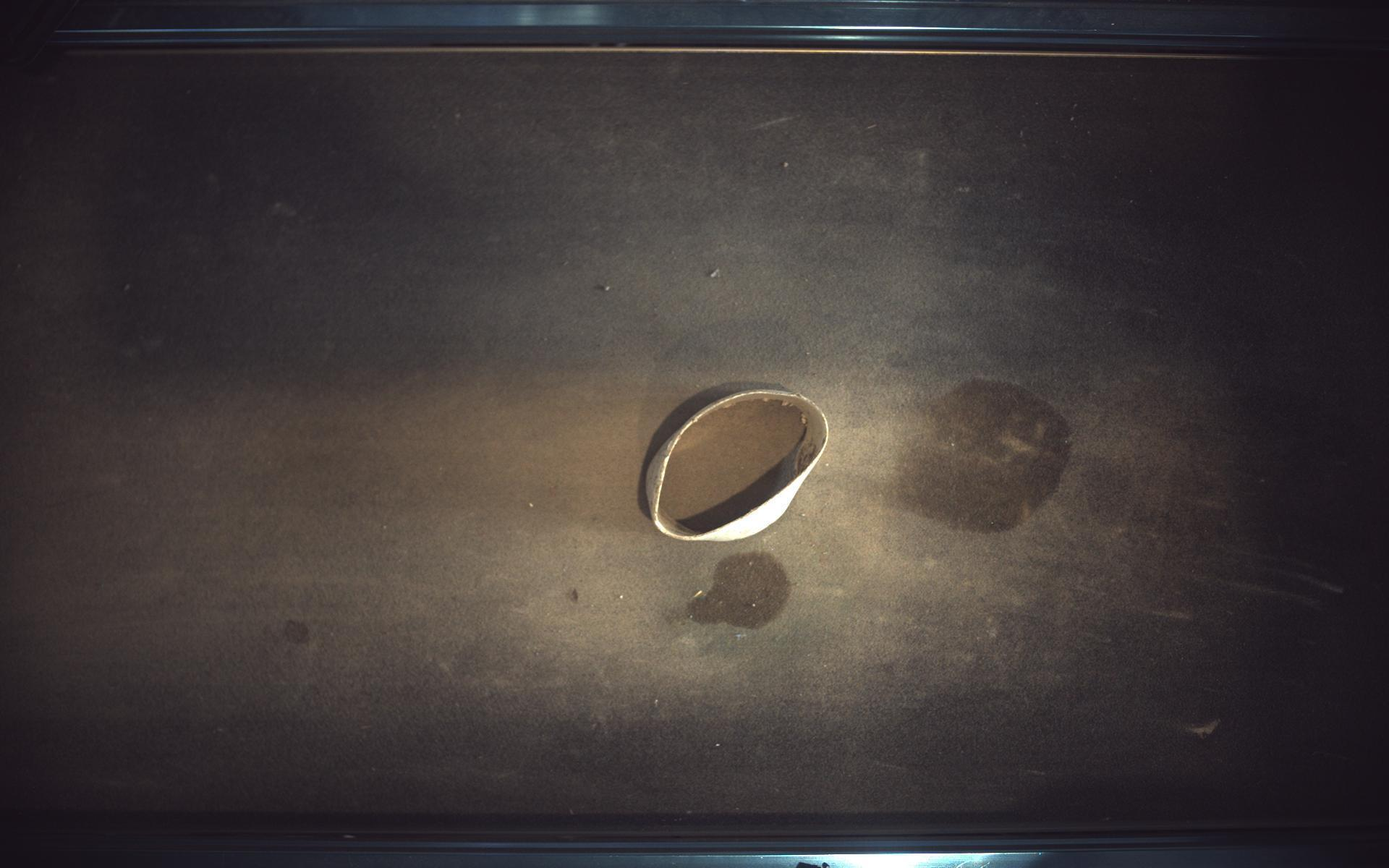plastic: (647, 388, 830, 541)
